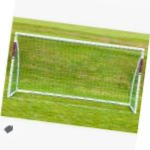goals: (6, 31, 145, 116)
